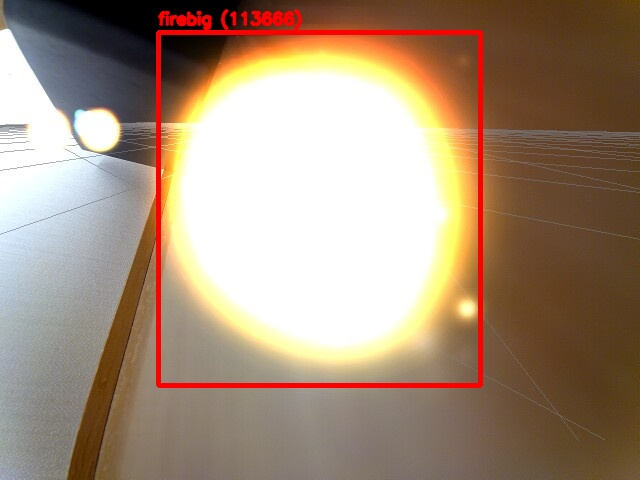firebig: (158, 32, 480, 385)
